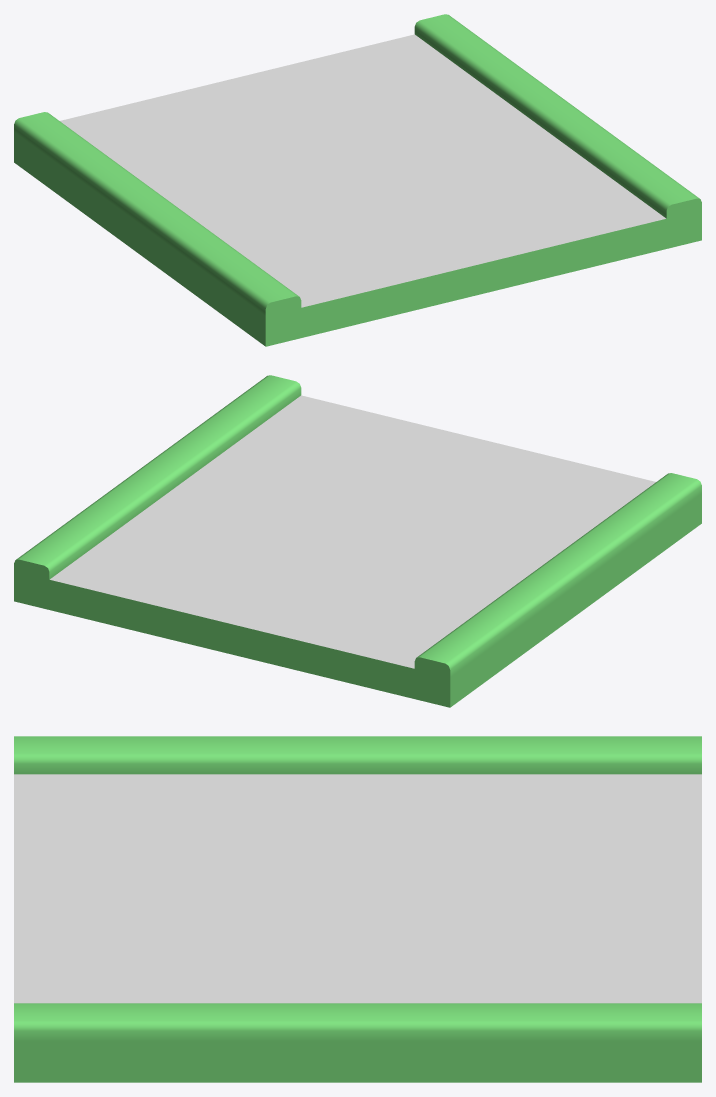
File: road.fbx
3 renders of one model, top to bottom at view 1: azimuth 30°, elevation 25°; view 2: azimuth 150°, elevation 25°; view 3: azimuth 270°, elevation 25°, orthographic. The views are drawn at different scales.
Visible parts, largest first — view 1: Plane; view 2: Plane; view 3: Plane.
Part boxes in pixels (bbox=[...]): Plane: bbox=[14, 14, 701, 346]; Plane: bbox=[14, 375, 701, 707]; Plane: bbox=[14, 736, 701, 1082].
Size of the model in its own units: 200 by 18.89 by 200.
